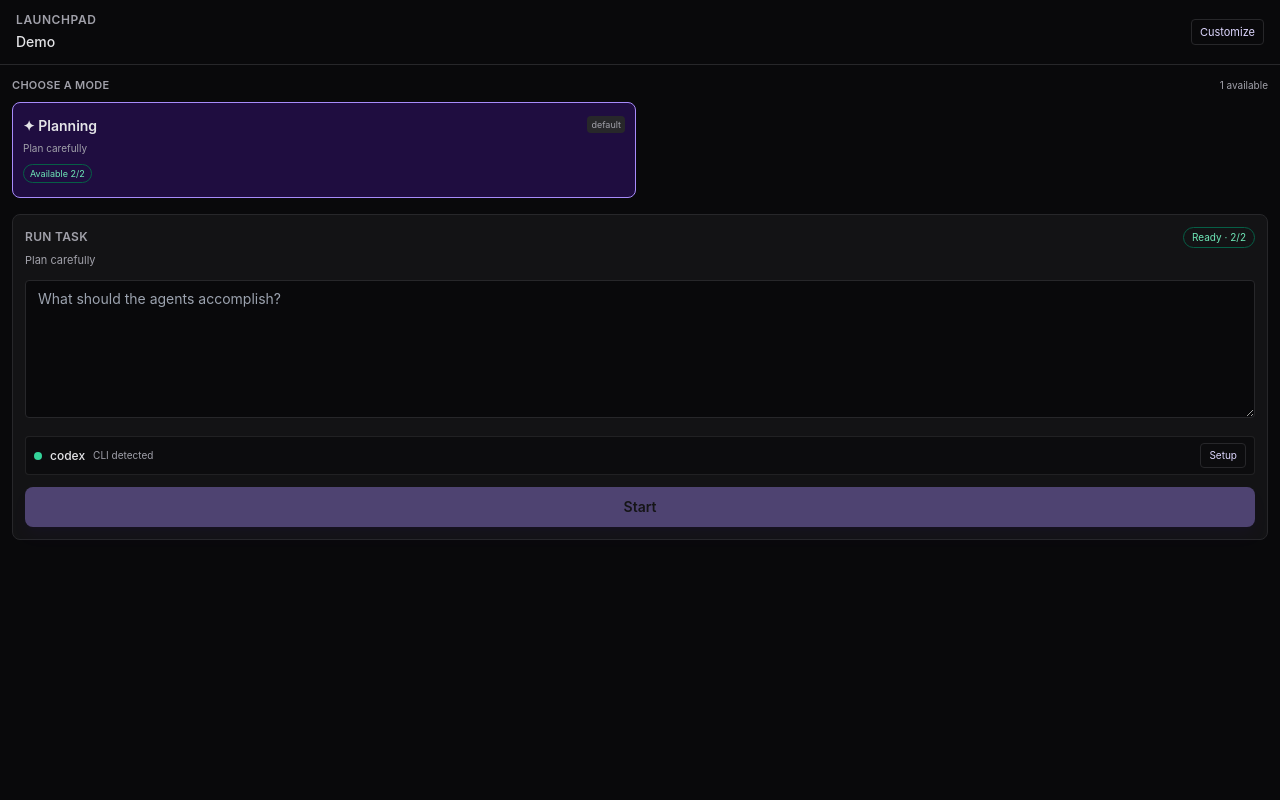
WorkflowPanel › starts with the workspace default in the simple Launchpad and reveals advanced controls only on request
expect the heading "Launchpad" is shown: met, box x1=16 y1=12 x2=97 y2=28
expect the button "✦ Planning default Plan carefully Available 2/2" is shown: met, box x1=12 y1=102 x2=636 y2=198
Click the button "Customize": [1227, 32] box x1=1191 y1=19 x2=1264 y2=45
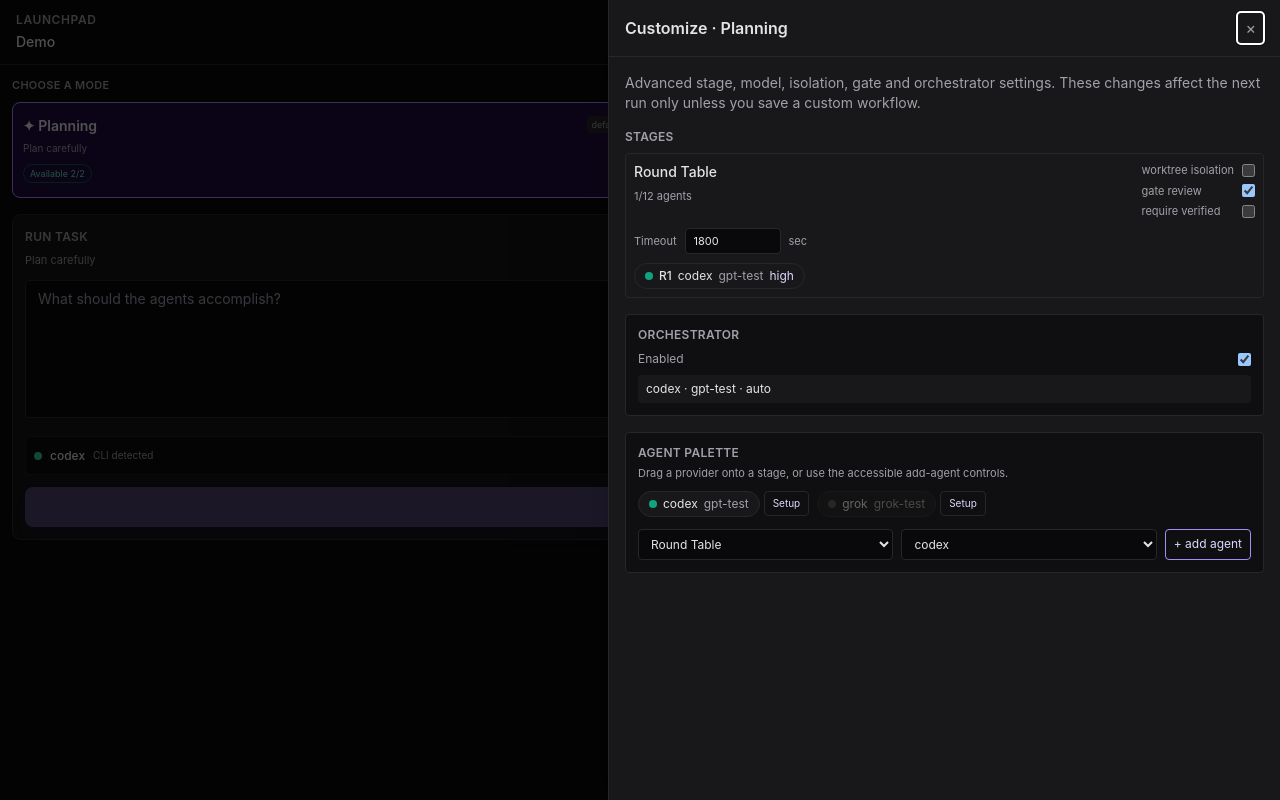
expect the button "Customize" is expanded: met, box x1=1191 y1=19 x2=1264 y2=45
expect the heading "Round Table" is shown: met, box x1=634 y1=162 x2=717 y2=182
expect the heading "Agent palette" is shown: met, box x1=638 y1=445 x2=739 y2=460
Click the button "R1 codex gpt-test high": [719, 276] box x1=634 y1=262 x2=805 y2=289
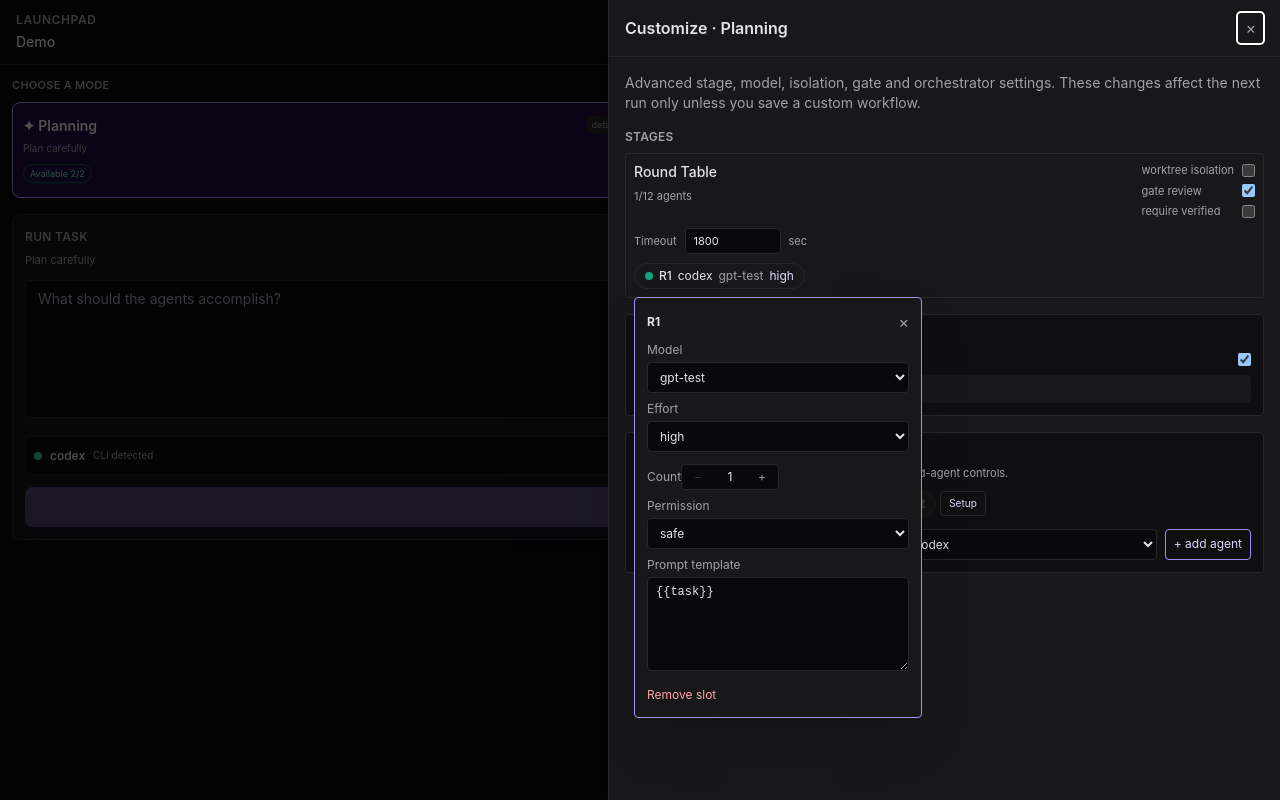
expect the dropdown labelled "Model" shows "gpt-test": met, box x1=647 y1=362 x2=909 y2=393
expect the text box labelled "Prompt template" holds "{{task}}": met, box x1=647 y1=577 x2=909 y2=671
